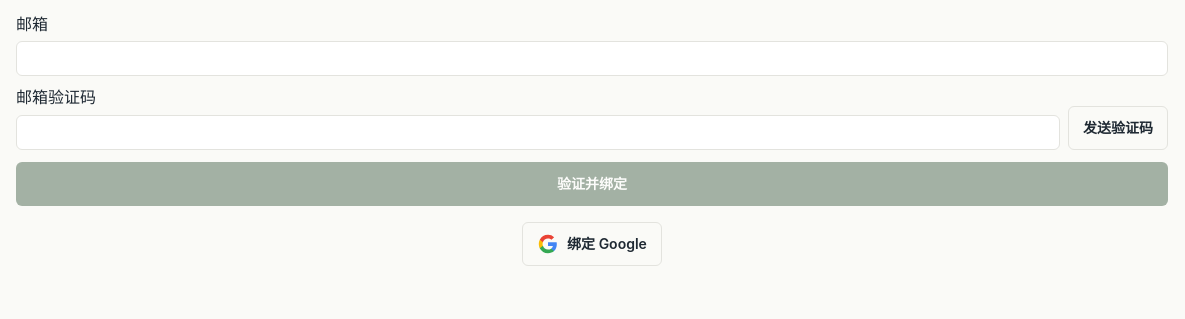
Test: rejects email binding after switching accounts between send and verify
Type "owner@example.com" into the field labelled "邮箱". click: (592, 59)
box: [16,41,1168,76]
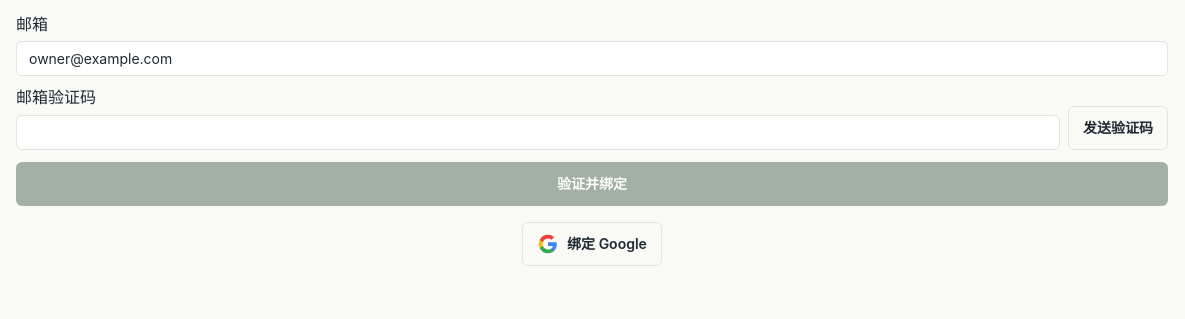
Click the button "发送验证码". click: (1118, 128)
box: [1068,106,1168,150]
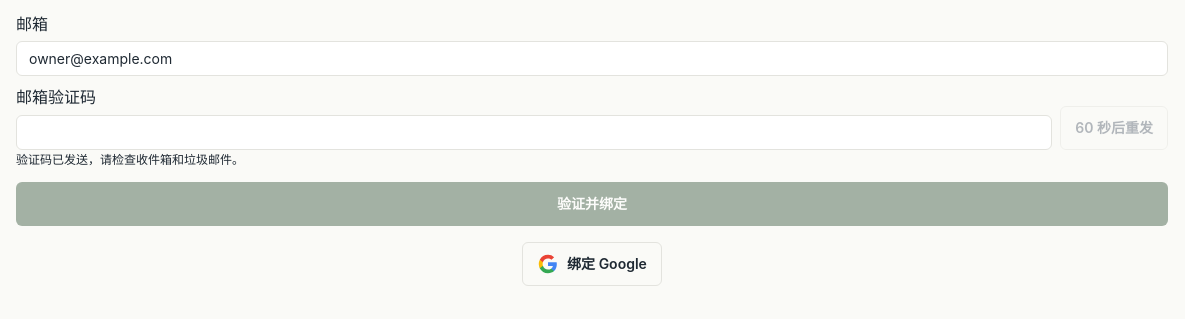
Type "123456" into the field labelled "邮箱验证码". click: (534, 132)
box: [16,115,1052,150]
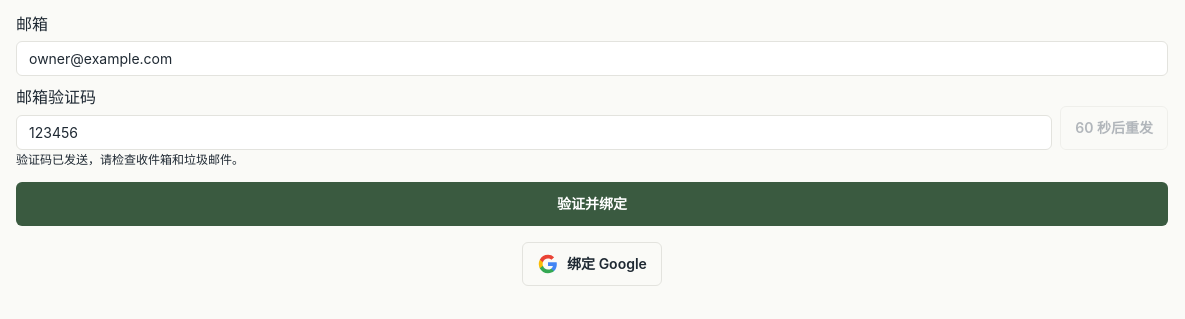
Click the button "验证并绑定". click: (592, 204)
box: [16,182,1168,226]
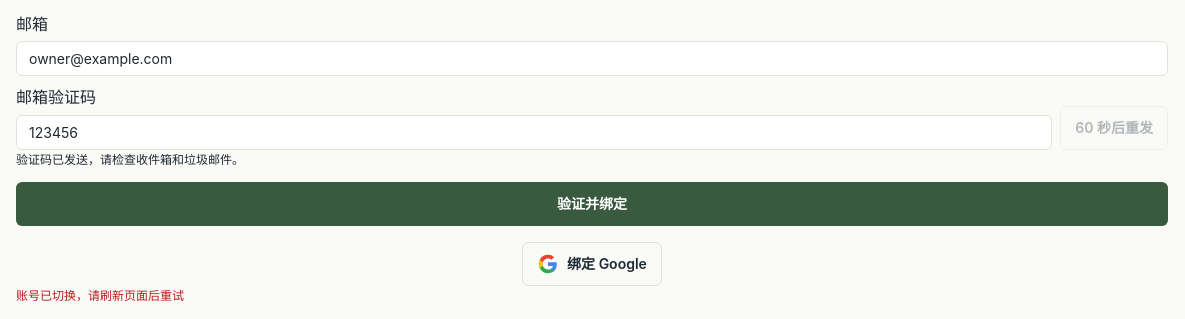
Result: the message "账号已切换，请刷新页面后重试" is shown at [16,288,184,303]
